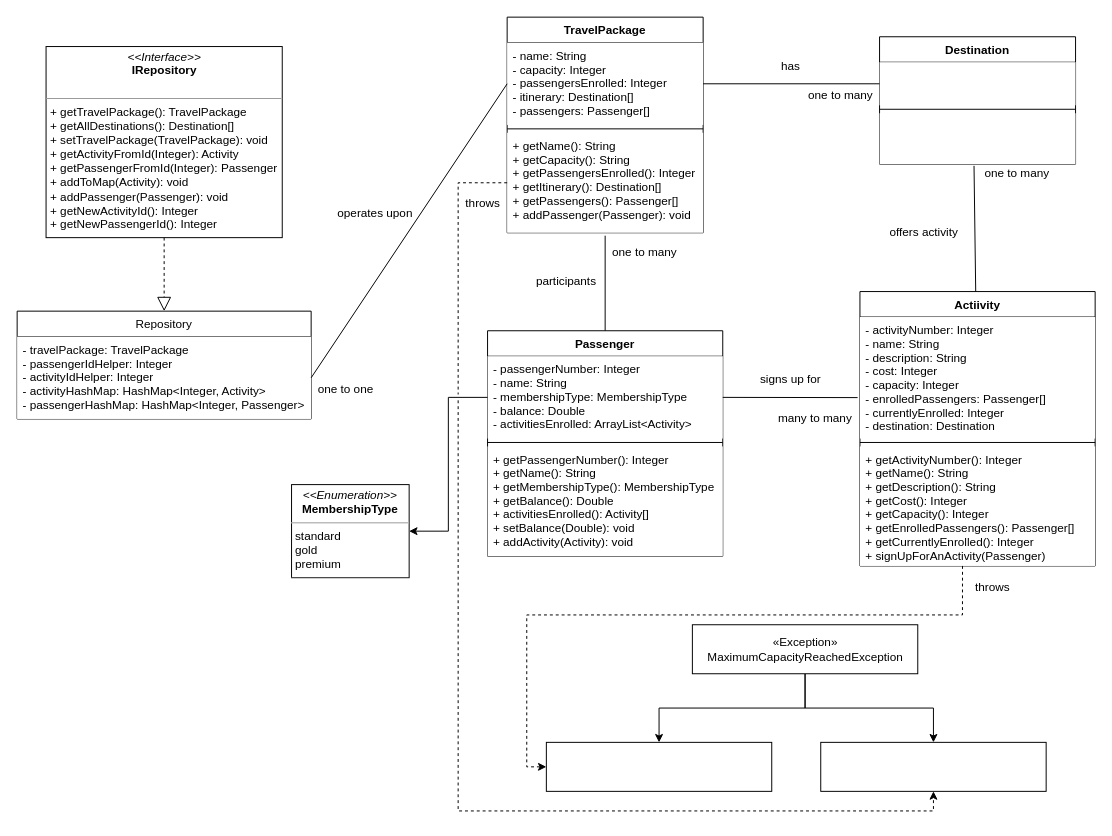
The diagram is 1112 pixels wide and 836 high, and some of its shapes have lost their labels. Each missing label, with the centre of its shape:
"+ getName(): String + getActivities(): Activity[] + addActivity(): void" belongs at (x=977, y=138).
"- name: String - activities: Activity[]" belongs at (x=977, y=83).
"«Exception» ActivityCapacityReached" belongs at (x=658, y=766).
"«Exception» TravelPackageCapacityReached" belongs at (x=933, y=766).
